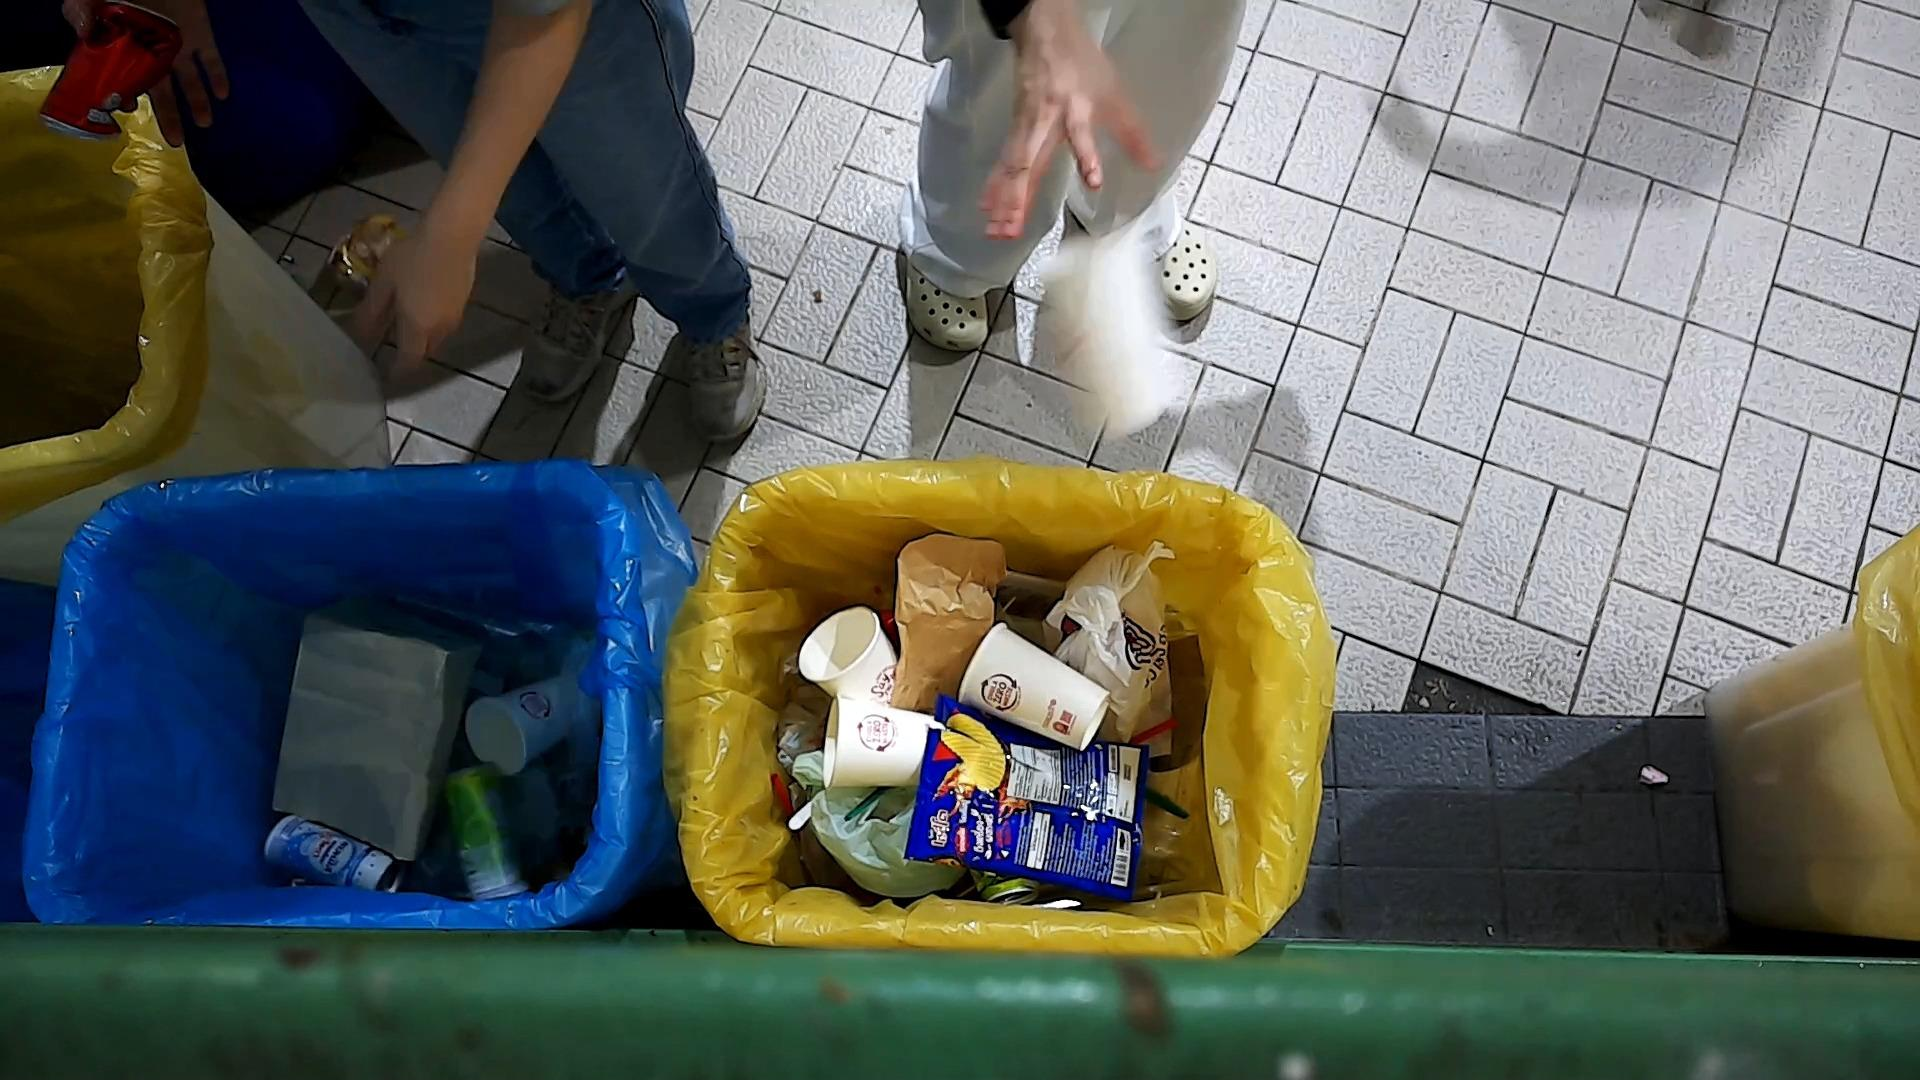can: (36, 0, 189, 150), (439, 758, 538, 905), (261, 811, 409, 895)
filled plastic bag: (1038, 538, 1179, 765), (789, 745, 973, 901)
paper bag: (269, 589, 502, 860), (889, 531, 1011, 717)
snack packaging: (902, 688, 1151, 903)
zero waste cup: (1025, 211, 1195, 451), (955, 618, 1114, 760), (463, 670, 593, 781), (820, 691, 934, 794), (795, 603, 899, 707)
